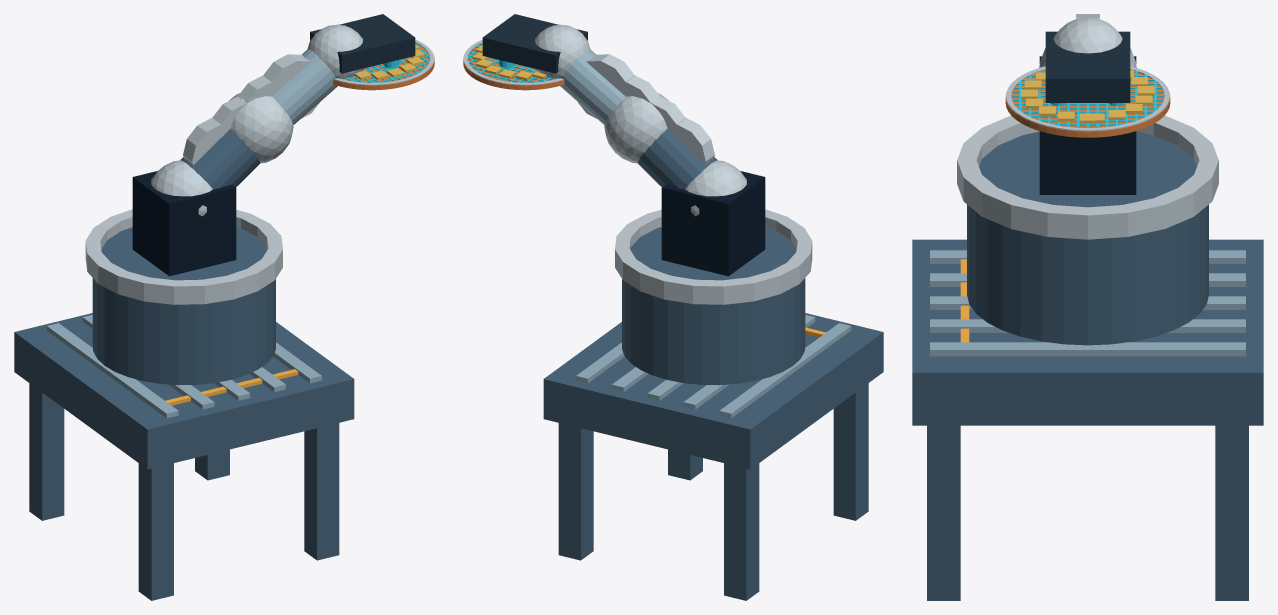
File: 03_L77_AutomatedWaferHandlingRobot.fbx
3 views of the same model, side by side, from view 1: azimuth 30°, elevation 25°; view 2: azimuth 150°, elevation 25°; view 3: azimuth 270°, elevation 25° (orthographic). The views are drawn at different scales.
Visible parts, largest first — view 1: AutomatedWaferHandlingRobot, AutomatedWaferHandlingRobot_Part_0011, AutomatedWaferHandlingRobot_Part_0013, AutomatedWaferHandlingRobot_Part_0012, AutomatedWaferHandlingRobot_Part_0024, AutomatedWaferHandlingRobot_Part_0016, AutomatedWaferHandlingRobot_Part_0014, AutomatedWaferHandlingRobot_Part_0017, AutomatedWaferHandlingRobot_Part_0019, AutomatedWaferHandlingRobot_Part_0015, AutomatedWaferHandlingRobot_Part_0020, AutomatedWaferHandlingRobot_Part_0023 (+3 smaller); view 2: AutomatedWaferHandlingRobot, AutomatedWaferHandlingRobot_Part_0011, AutomatedWaferHandlingRobot_Part_0013, AutomatedWaferHandlingRobot_Part_0012, AutomatedWaferHandlingRobot_Part_0024, AutomatedWaferHandlingRobot_Part_0016, AutomatedWaferHandlingRobot_Part_0014, AutomatedWaferHandlingRobot_Part_0017, AutomatedWaferHandlingRobot_Part_0019, AutomatedWaferHandlingRobot_Part_0015, AutomatedWaferHandlingRobot_Part_0020, AutomatedWaferHandlingRobot_Part_0027 (+3 smaller); view 3: AutomatedWaferHandlingRobot, AutomatedWaferHandlingRobot_Part_0011, AutomatedWaferHandlingRobot_Part_0012, AutomatedWaferHandlingRobot_Part_0013, AutomatedWaferHandlingRobot_Part_0024, AutomatedWaferHandlingRobot_Part_0027, AutomatedWaferHandlingRobot_Part_0019, AutomatedWaferHandlingRobot_Part_0028.
Part boxes in pixels (left/top/right/bottom): AutomatedWaferHandlingRobot: left=14, top=313, right=354, bottom=600; AutomatedWaferHandlingRobot_Part_0011: left=92, top=227, right=275, bottom=385; AutomatedWaferHandlingRobot_Part_0013: left=132, top=171, right=236, bottom=276; AutomatedWaferHandlingRobot_Part_0012: left=85, top=209, right=282, bottom=304; AutomatedWaferHandlingRobot_Part_0024: left=310, top=14, right=415, bottom=73; AutomatedWaferHandlingRobot_Part_0016: left=229, top=93, right=293, bottom=163; AutomatedWaferHandlingRobot_Part_0014: left=180, top=129, right=260, bottom=189; AutomatedWaferHandlingRobot_Part_0017: left=272, top=49, right=337, bottom=124; AutomatedWaferHandlingRobot_Part_0019: left=307, top=24, right=364, bottom=78; AutomatedWaferHandlingRobot_Part_0015: left=151, top=160, right=212, bottom=216; AutomatedWaferHandlingRobot_Part_0020: left=183, top=118, right=230, bottom=165; AutomatedWaferHandlingRobot_Part_0023: left=263, top=54, right=319, bottom=118; AutomatedWaferHandlingRobot: left=543, top=313, right=883, bottom=600; AutomatedWaferHandlingRobot_Part_0011: left=622, top=227, right=805, bottom=385; AutomatedWaferHandlingRobot_Part_0013: left=661, top=171, right=765, bottom=276; AutomatedWaferHandlingRobot_Part_0012: left=615, top=209, right=812, bottom=304; AutomatedWaferHandlingRobot_Part_0024: left=482, top=14, right=587, bottom=73; AutomatedWaferHandlingRobot_Part_0016: left=604, top=93, right=668, bottom=163; AutomatedWaferHandlingRobot_Part_0014: left=637, top=129, right=717, bottom=189; AutomatedWaferHandlingRobot_Part_0017: left=560, top=49, right=625, bottom=124; AutomatedWaferHandlingRobot_Part_0019: left=533, top=24, right=590, bottom=78; AutomatedWaferHandlingRobot_Part_0015: left=685, top=160, right=746, bottom=216; AutomatedWaferHandlingRobot_Part_0020: left=666, top=118, right=714, bottom=165; AutomatedWaferHandlingRobot_Part_0027: left=463, top=43, right=564, bottom=90; AutomatedWaferHandlingRobot: left=912, top=239, right=1263, bottom=600; AutomatedWaferHandlingRobot_Part_0011: left=967, top=131, right=1208, bottom=345; AutomatedWaferHandlingRobot_Part_0012: left=957, top=115, right=1218, bottom=239; AutomatedWaferHandlingRobot_Part_0013: left=1039, top=56, right=1136, bottom=194; AutomatedWaferHandlingRobot_Part_0024: left=1045, top=31, right=1130, bottom=102; AutomatedWaferHandlingRobot_Part_0027: left=1005, top=70, right=1170, bottom=137; AutomatedWaferHandlingRobot_Part_0019: left=1053, top=17, right=1122, bottom=53; AutomatedWaferHandlingRobot_Part_0028: left=1006, top=66, right=1169, bottom=131.
Bounding box in the file's own units: 217 × 281 × 145.
